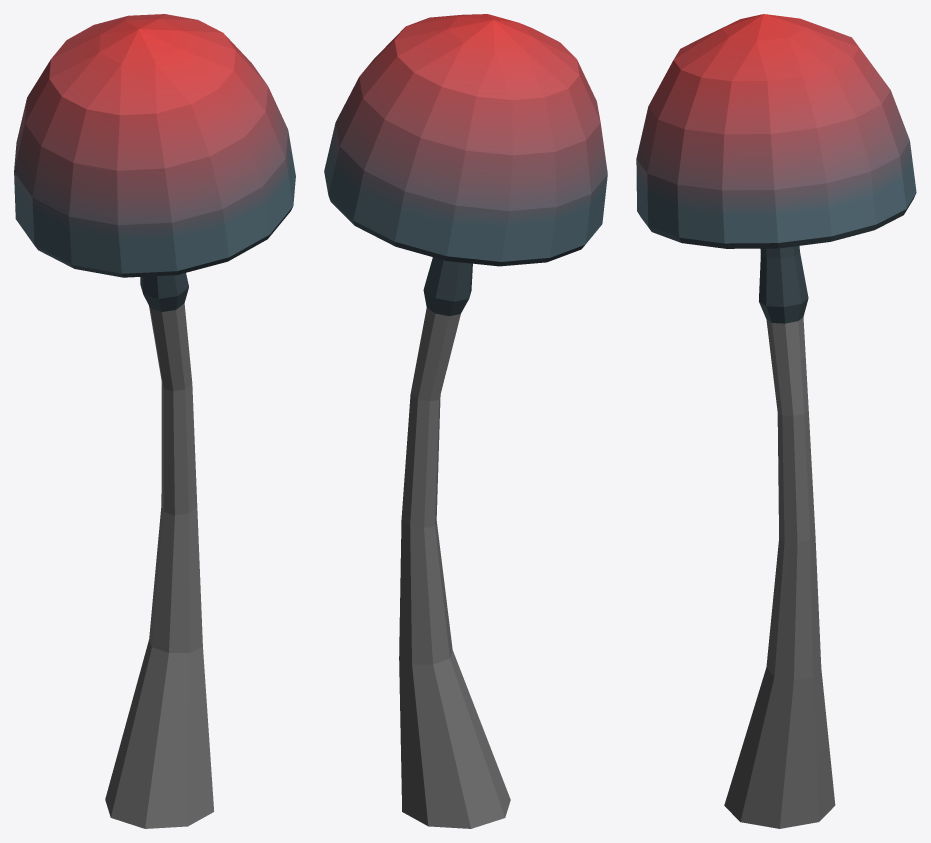
Rendered from mushroom_004.fbx.
3 views of the same model, side by side, from view 1: azimuth 30°, elevation 25°; view 2: azimuth 150°, elevation 25°; view 3: azimuth 270°, elevation 25° (orthographic).
Parts seen in each view (by area): view 1: mushroom.004; view 2: mushroom.004; view 3: mushroom.004.
Boxes of the visible parts, box(x1,y1,x2,y2) form: mushroom.004: box(14, 14, 295, 828); mushroom.004: box(324, 14, 607, 828); mushroom.004: box(636, 14, 916, 828).
Size of the model in its own units: 743 by 2262 by 738.
1 material, 1 textured.
